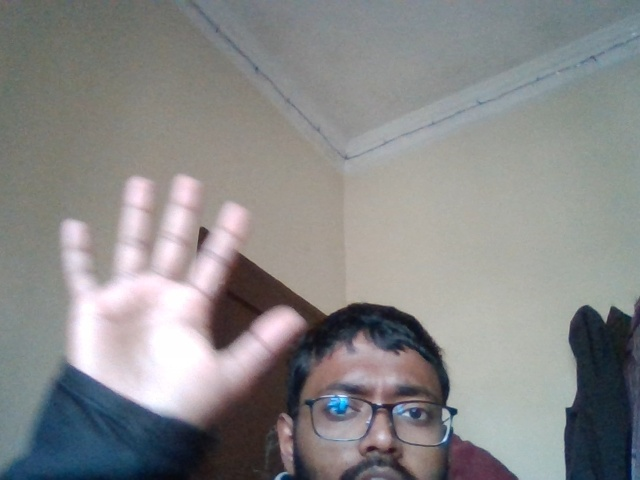Hello: (31, 164, 316, 396)
